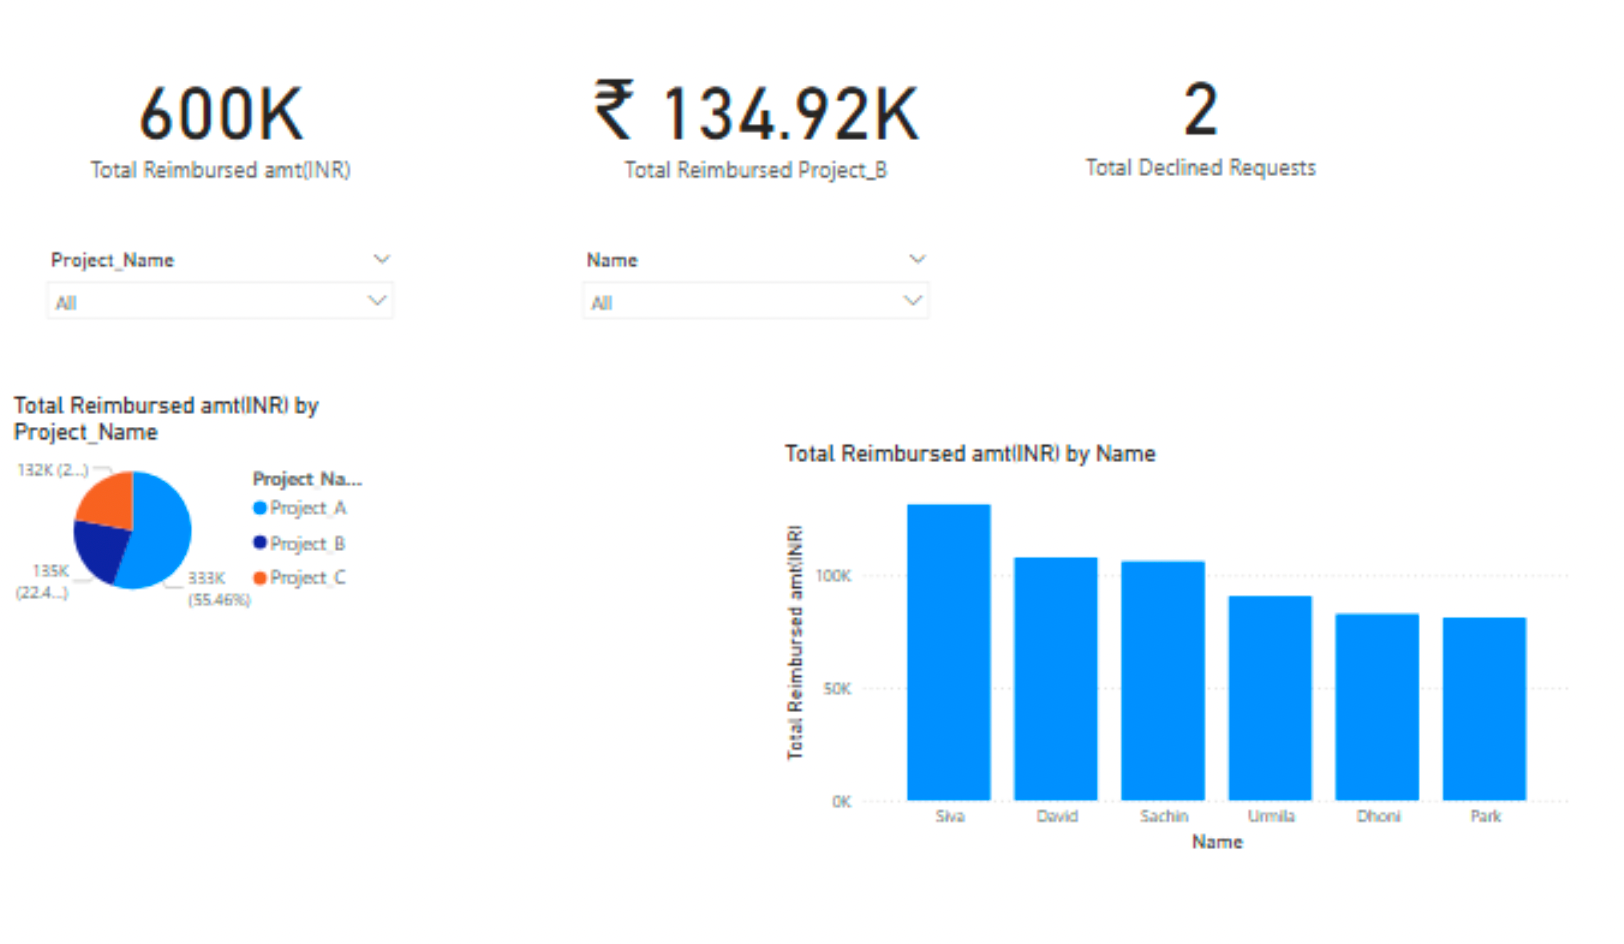

The page's visual inventory and layout, read from the dashboard file:
{"tool":"powerbi","page":{"name":"Page 1","canvas":[1280,720],"ordinal":0},"visuals":[{"type":"card","fields":{"Values":["fact_reimbursement.Total Reimbursed amt(INR)"]},"box":[37,17.4,272.1,163.3],"z":0},{"type":"card","fields":{"Values":["fact_reimbursement.Total Reimbursed Project_B"]},"box":[425.6,17.4,272.1,163.3],"z":1},{"type":"card","fields":{"Values":["fact_reimbursement.Total Declined Requests"]},"box":[768.4,30.5,230.7,132.8],"z":2},{"type":"slicer","fields":{"Values":["fact_reimbursement.Project_Name"]},"box":[37,190.7,272.1,163.3],"z":3},{"type":"slicer","fields":{"Values":["Dim_employee.Name"]},"box":[425.6,190.7,272.1,163.3],"z":4},{"type":"pieChart","fields":{"Y":["fact_reimbursement.Total Reimbursed amt(INR)"],"Category":["fact_reimbursement.Project_Name"]},"box":[17.4,298.2,272.1,163.3],"z":5},{"type":"clusteredColumnChart","fields":{"Y":["fact_reimbursement.Total Reimbursed amt(INR)"],"Category":["Dim_employee.Name"]},"box":[576.9,333.1,581.2,304.8],"z":6}]}

Visuals, with their boxes on the page's 1280x720 design canvas (x1, y1, x2, y2). These are canvas units, not pixel positions in the 1624x944 screenshot, which may show the page scaled, cropped or inside an application window:
card - fact_reimbursement.Total Reimbursed amt(INR): (x1=37, y1=17, x2=309, y2=181)
card - fact_reimbursement.Total Reimbursed Project_B: (x1=426, y1=17, x2=698, y2=181)
card - fact_reimbursement.Total Declined Requests: (x1=768, y1=30, x2=999, y2=163)
slicer - fact_reimbursement.Project_Name: (x1=37, y1=191, x2=309, y2=354)
slicer - Dim_employee.Name: (x1=426, y1=191, x2=698, y2=354)
pieChart - fact_reimbursement.Total Reimbursed amt(INR) x fact_reimbursement.Project_Name: (x1=17, y1=298, x2=290, y2=462)
clusteredColumnChart - fact_reimbursement.Total Reimbursed amt(INR) x Dim_employee.Name: (x1=577, y1=333, x2=1158, y2=638)
